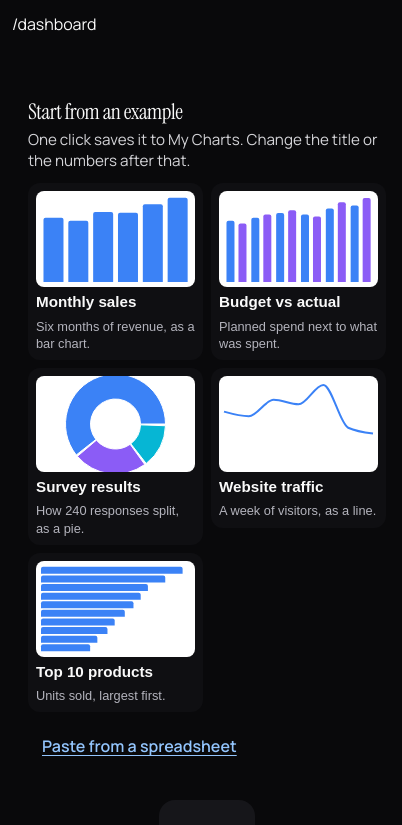
Test case: a failed template save stays on the empty library and can be retried
Click the button "Budget vs actual Planned spend next to what was spent.". click: (298, 272)
box: [211,183,386,360]
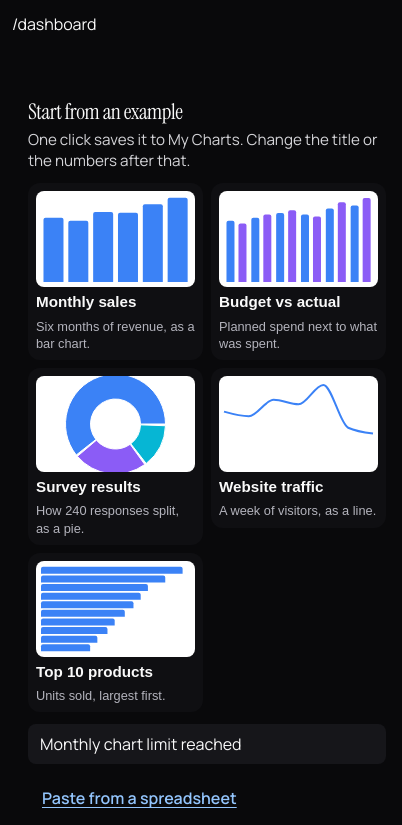
Check: the text with test id "path" reads "/dashboard", box [12,13,97,35]
Check: the message reads "Monthly chart limit reached", box [40,733,242,755]
